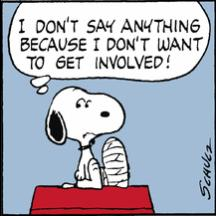snoopy: (43, 84, 129, 191)
